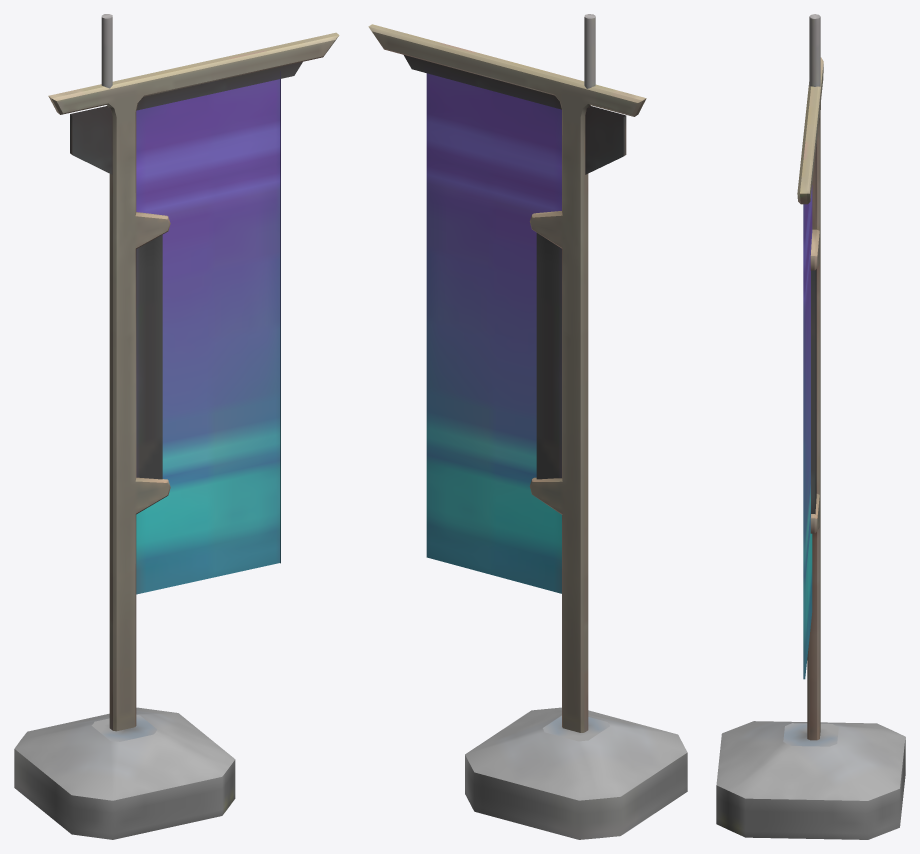
Rendered from pref_sm_city_shop04b_lv3.fbx.
3 renders of one model, left to right at view 1: azimuth 30°, elevation 25°; view 2: azimuth 150°, elevation 25°; view 3: azimuth 270°, elevation 25°, orthographic.
Visible parts, largest first — view 1: pref_sm_city_shop04b_lv3; view 2: pref_sm_city_shop04b_lv3; view 3: pref_sm_city_shop04b_lv3.
Boxes of the visible parts, x1,y1,x2,y2 form: pref_sm_city_shop04b_lv3: [14, 14, 339, 839]; pref_sm_city_shop04b_lv3: [368, 14, 687, 839]; pref_sm_city_shop04b_lv3: [716, 14, 905, 839].
Bounding box in the file's own units: 1.93 × 4.93 × 1.09.
